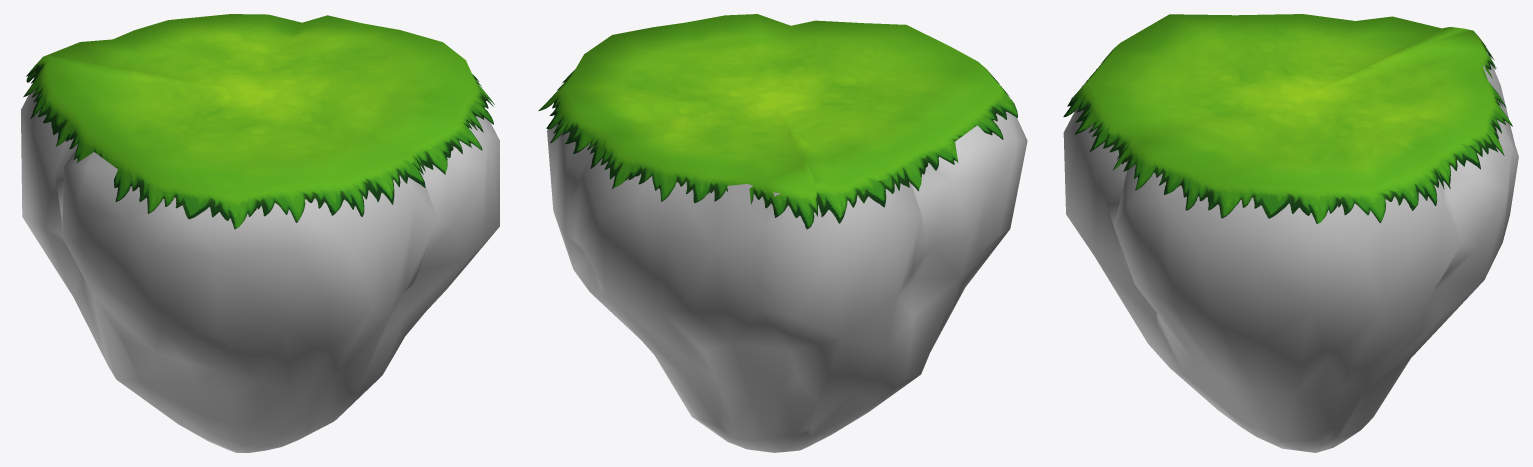
Rendered from Island_Medium_02.fbx.
The picture shows the model from 3 angles, left to right: view 1: azimuth 30°, elevation 25°; view 2: azimuth 150°, elevation 25°; view 3: azimuth 270°, elevation 25°; orthographic projection.
Parts seen in each view (by area): view 1: Island_Medium_02; view 2: Island_Medium_02; view 3: Island_Medium_02.
Boxes of the visible parts, x1,y1,x2,y2 form: Island_Medium_02: (21,14,499,452); Island_Medium_02: (538,14,1027,452); Island_Medium_02: (1063,14,1518,452).
Size of the model in its own units: 625 by 524 by 620.
